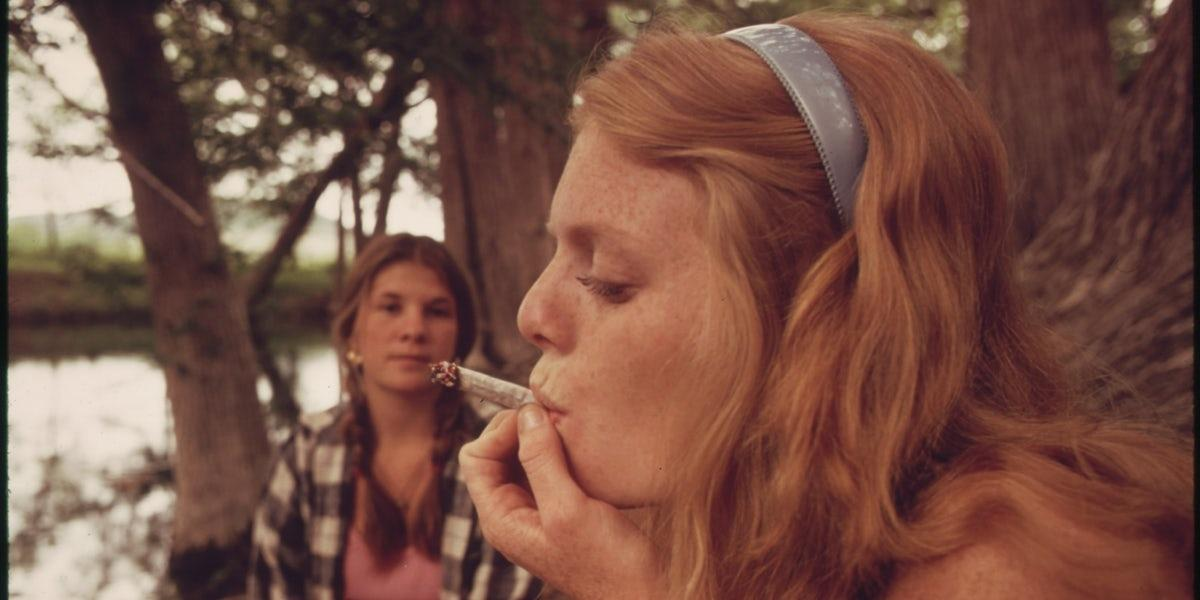smoke: (432, 361, 552, 415)
